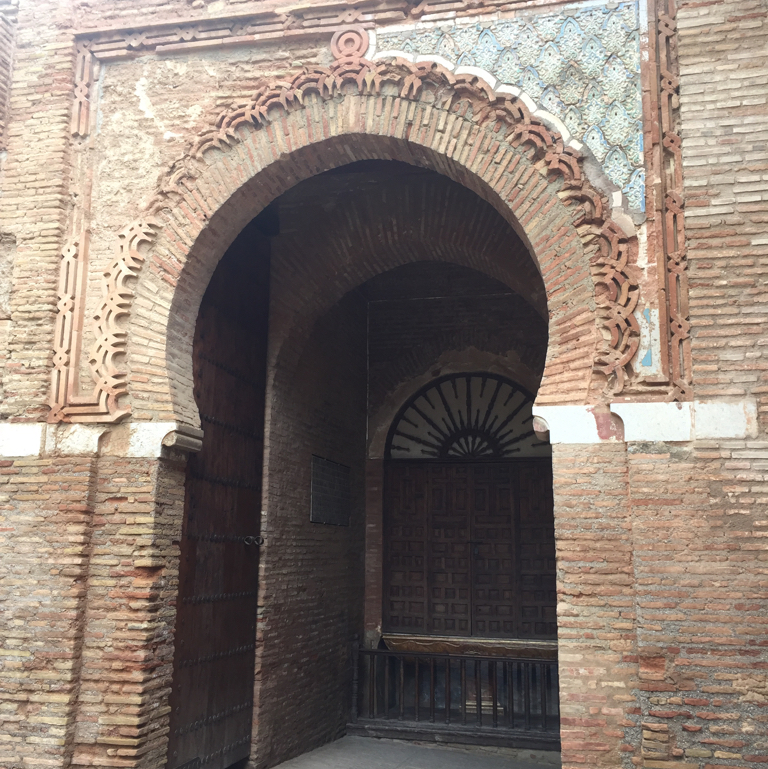arco-herradura: (143, 113, 577, 475)
